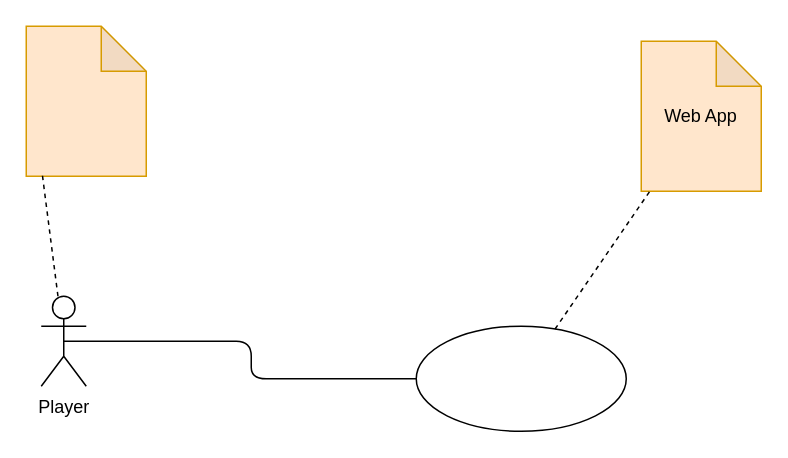
This 788x458 diagram has some shape labels left out. The centre of each missing label's shape, as x and y in pixels:
One Player plays both the white and black: the point at 85,100
Reversi Application: the point at 520,378
